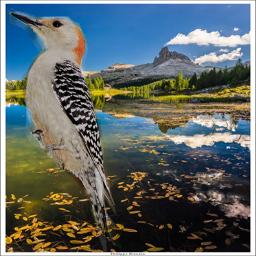Woodpecker: (7, 1, 123, 252)
